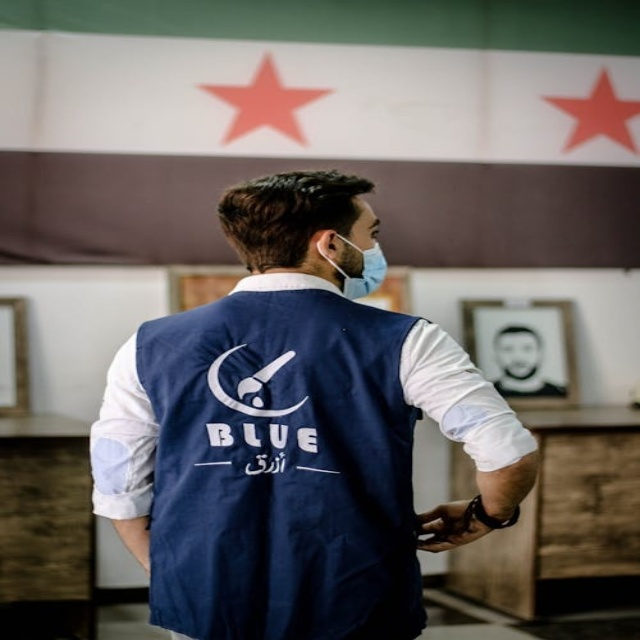Mascara: (329, 234, 388, 299)
Sin_gafas: (347, 218, 390, 244)
Sin_guantes: (411, 497, 499, 551)
